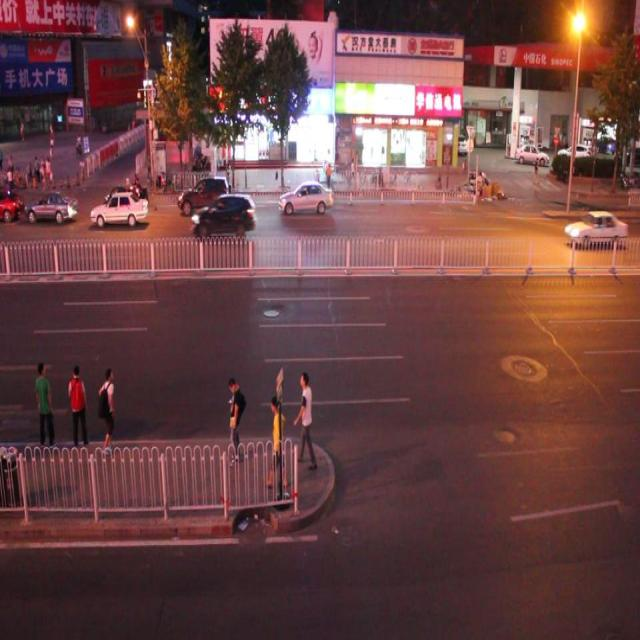car: (190, 192, 258, 236), (175, 172, 237, 217), (563, 209, 626, 250), (278, 175, 335, 220), (25, 186, 81, 226), (90, 192, 148, 228), (101, 180, 145, 223)
